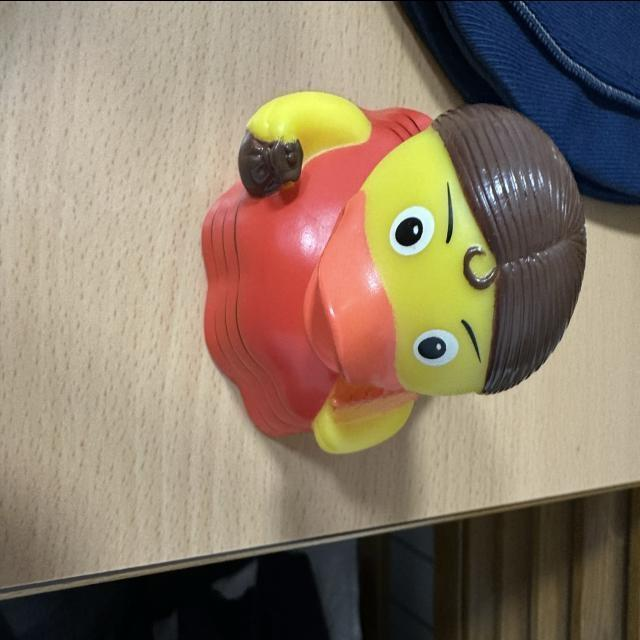rubber-duck: (201, 91, 584, 451)
